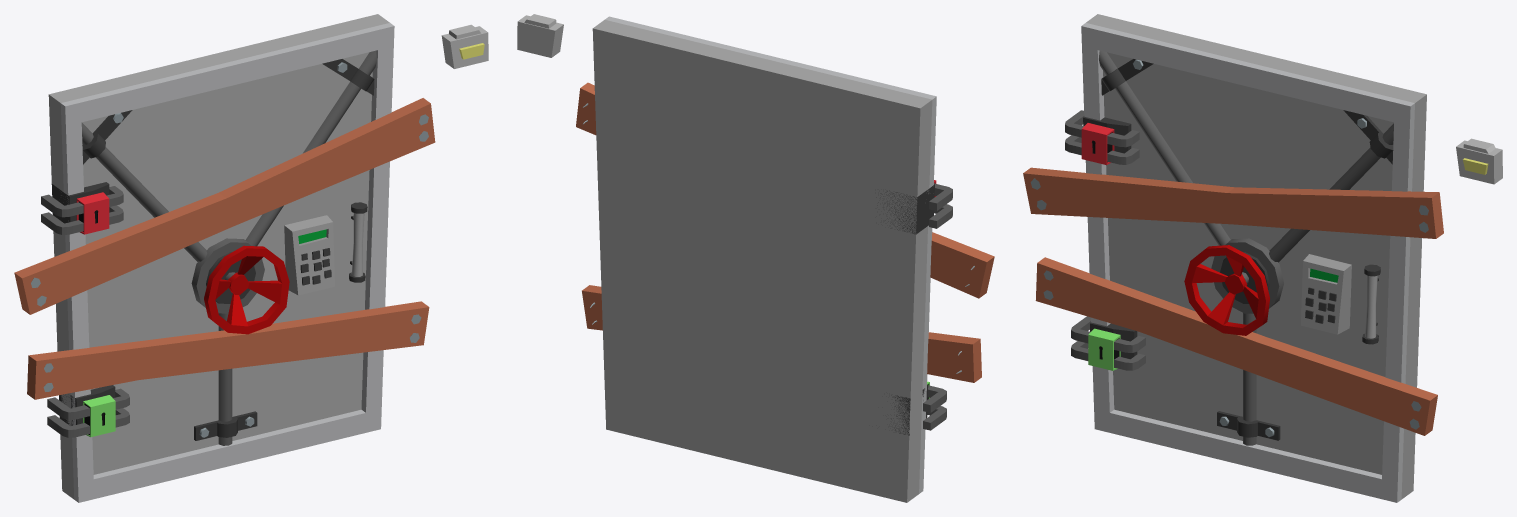
File: big_main_door.fbx
3 views of the same model, side by side, from view 1: azimuth 30°, elevation 25°; view 2: azimuth 150°, elevation 25°; view 3: azimuth 330°, elevation 25° (orthographic).
Visible parts, largest first — view 1: wall.001, wall.004, wall.002, wall.003, Circle.006, Cube.003, Circle.005, Circle.001, Cube.007, Circle, Cube.010, Cube.011 (+12 smaller); view 2: wall.001, wall.002, wall.004, wall.003, Cube.007, Cube.016; view 3: wall.001, wall.004, wall.002, wall.003, Circle.006, Cube.003, Circle.001, Cube.007, Circle, Circle.005, Cube.010, Cube.011 (+12 smaller).
Boxes of the visible parts, x1,y1,x2,y2 form: wall.001: (48, 14, 389, 499); wall.004: (60, 23, 394, 502); wall.002: (14, 98, 435, 314); wall.003: (27, 301, 429, 399); Circle.006: (204, 245, 289, 334); Cube.003: (284, 215, 334, 295); Circle.005: (245, 50, 376, 246); Circle.001: (81, 122, 207, 261); Cube.007: (441, 24, 488, 68); Circle: (191, 238, 264, 313); Cube.010: (76, 192, 109, 234); Cube.011: (83, 395, 115, 437); wall.001: (592, 19, 932, 502); wall.002: (576, 82, 994, 298); wall.004: (605, 16, 936, 493); wall.003: (582, 285, 981, 382); Cube.007: (517, 14, 563, 57); Cube.016: (876, 184, 934, 234); wall.001: (1086, 14, 1426, 499); wall.004: (1081, 23, 1414, 502); wall.002: (1023, 167, 1443, 238); wall.003: (1035, 257, 1437, 435); Circle.006: (1184, 245, 1269, 335); Cube.003: (1301, 254, 1351, 334); Circle.001: (1099, 50, 1230, 245); Cube.007: (1456, 138, 1502, 184); Circle: (1211, 238, 1283, 313); Circle.005: (1269, 123, 1393, 262); Cube.010: (1081, 123, 1114, 164); Cube.011: (1088, 328, 1120, 370).
Bounding box in the file's own units: 3.8 × 3.1 × 0.521.
